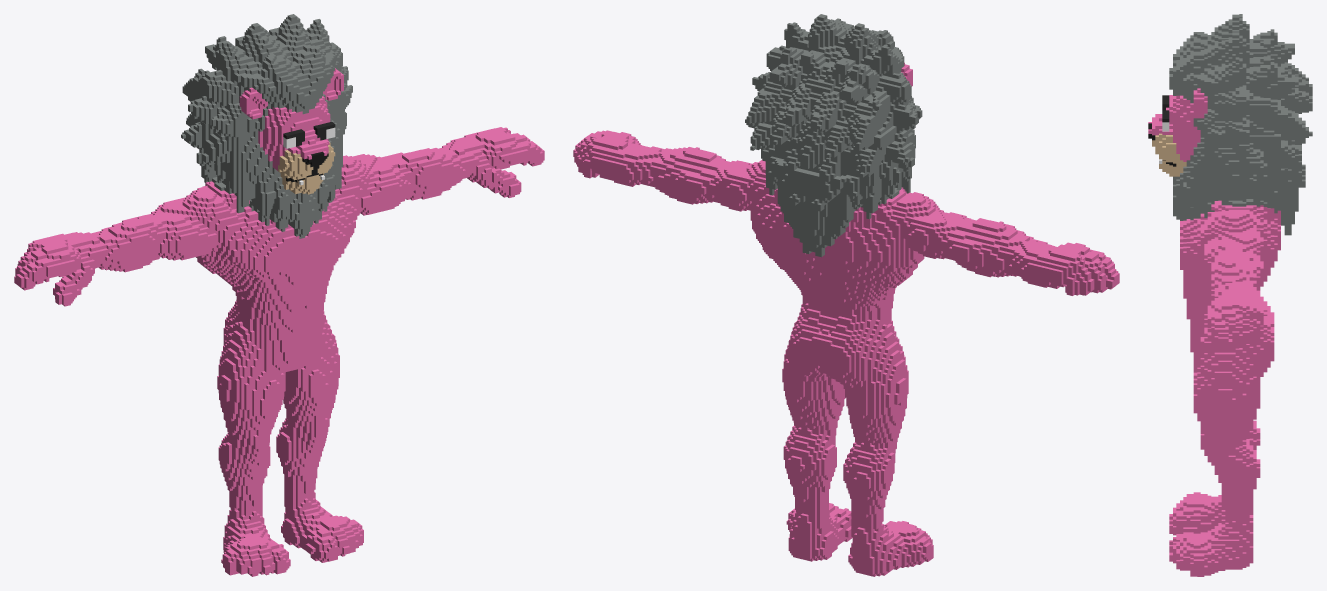
Rendered from 539-C9RIk18L.glb.
The picture shows the model from 3 angles, left to right: view 1: azimuth 30°, elevation 25°; view 2: azimuth 150°, elevation 25°; view 3: azimuth 270°, elevation 25°; orthographic projection. The views are drawn at different scales.
Visible parts, largest first — view 1: standard; view 2: standard; view 3: standard.
Part boxes in pixels (bbox=[...]): standard: bbox=[14, 14, 544, 576]; standard: bbox=[573, 14, 1119, 576]; standard: bbox=[1148, 14, 1312, 576].
Size of the model in its own units: 17.2 by 16.5 by 4.7.
4 materials, 4 textured.
